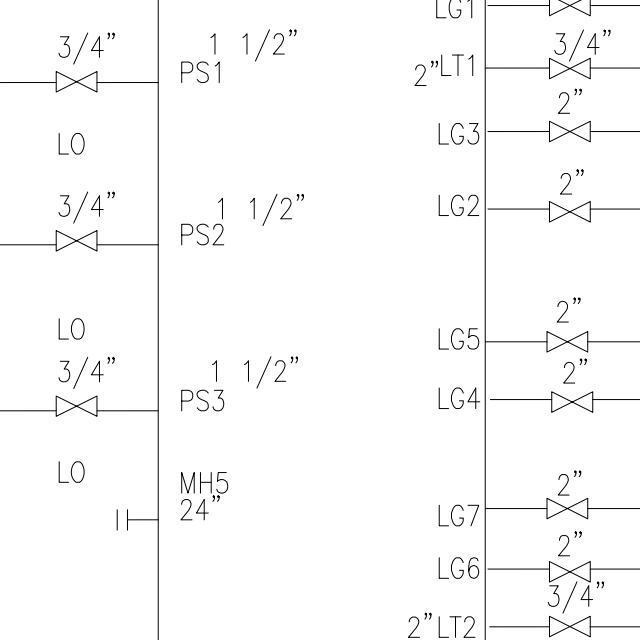GV: (542, 196, 596, 226), (546, 386, 599, 416), (543, 116, 595, 145), (50, 227, 99, 257), (48, 68, 100, 96), (545, 53, 595, 82), (542, 328, 593, 356), (51, 393, 103, 420), (542, 493, 592, 521), (545, 611, 594, 639), (546, 557, 593, 586)
